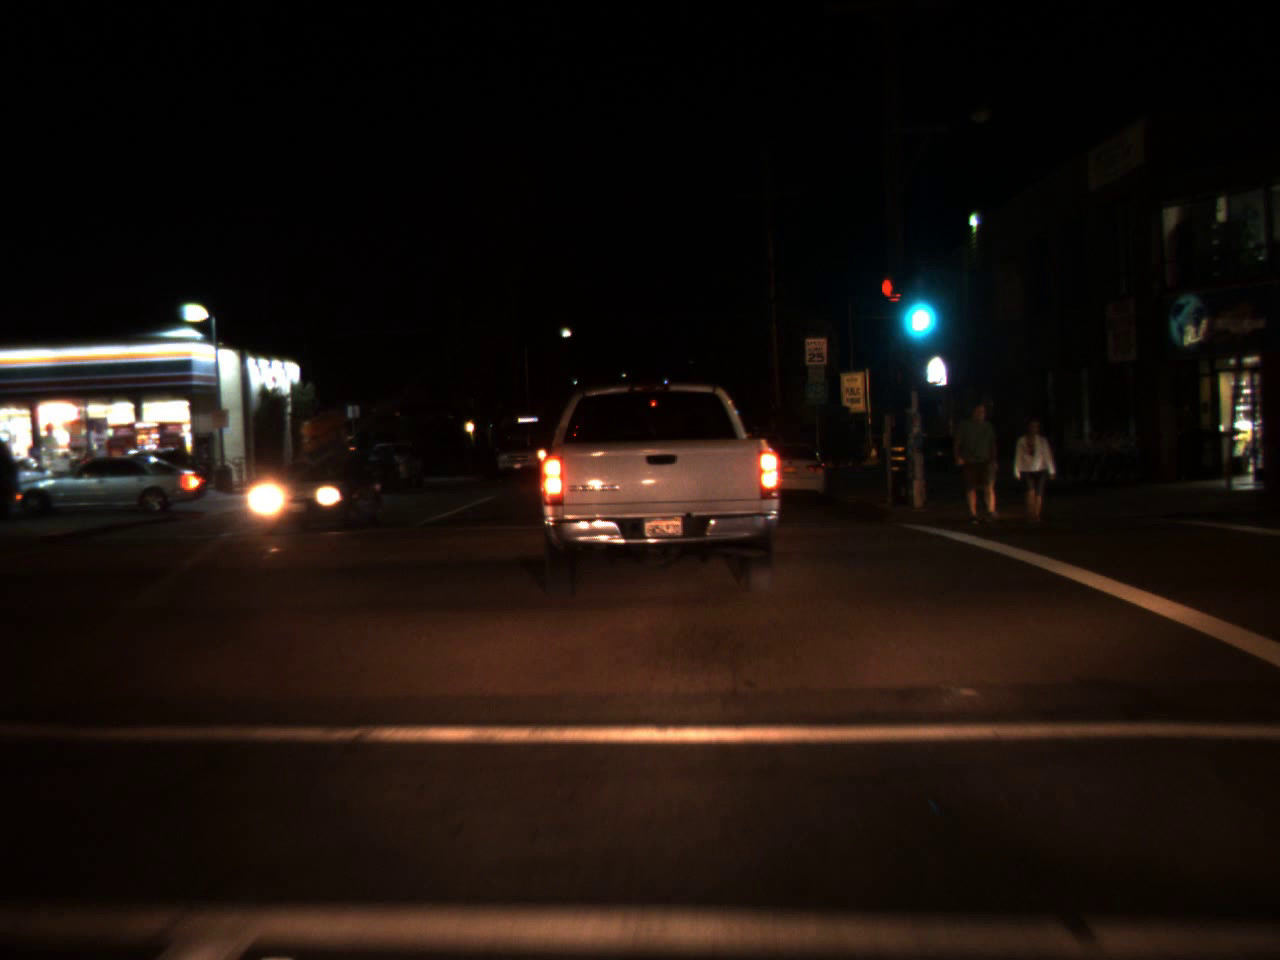go: (893, 267, 938, 345)
